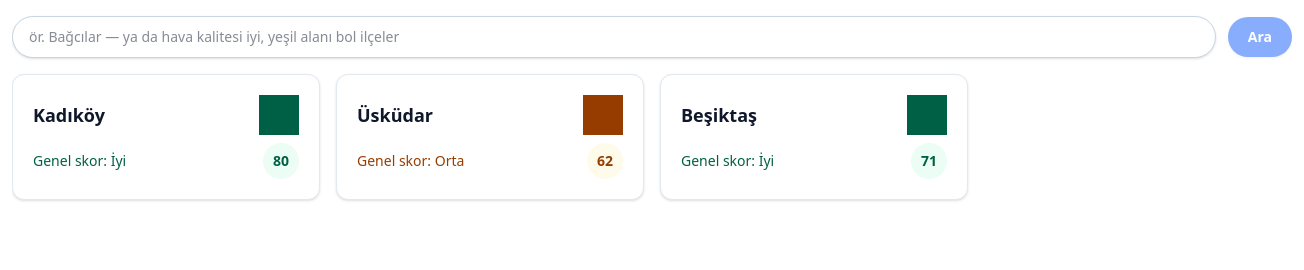
NeighborhoodSearchableList › matches a name typed without Turkish diacritics
The image size is (1304, 270).
Replace the text in the field named "İlçe ara" with "uskudar" at (614, 37), box x1=12 y1=16 x2=1216 y2=58
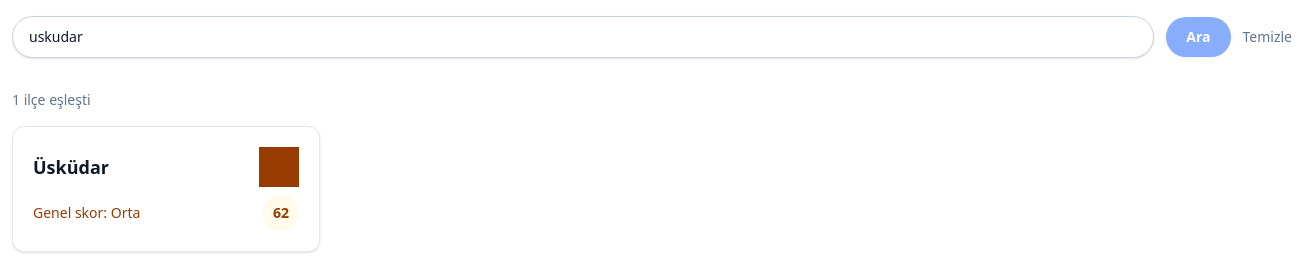
Expected: the text "Üsküdar" is shown, x1=33 y1=153 x2=109 y2=181
Result: the link "Kadıköy" is gone
